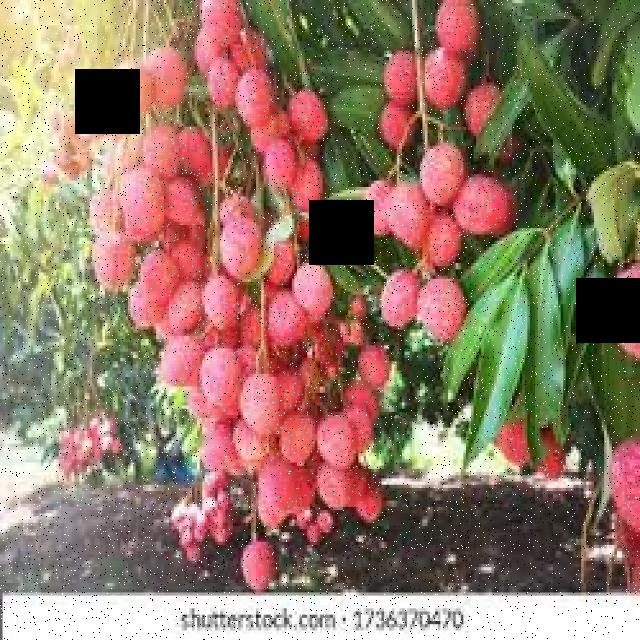lychee: (98, 121, 396, 525)
